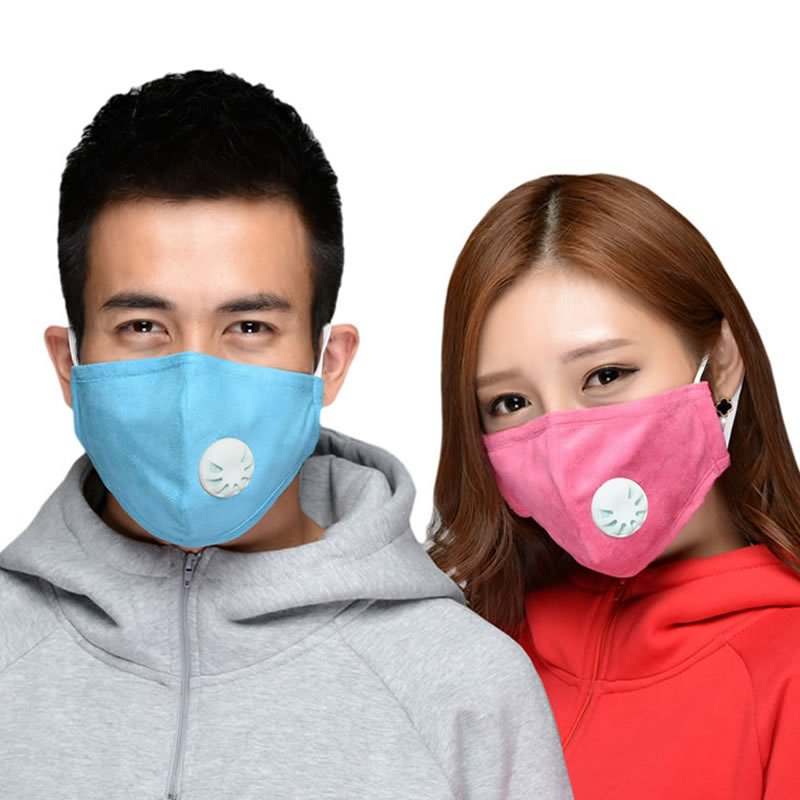face_mask: (81, 193, 312, 514), (470, 271, 703, 560)
